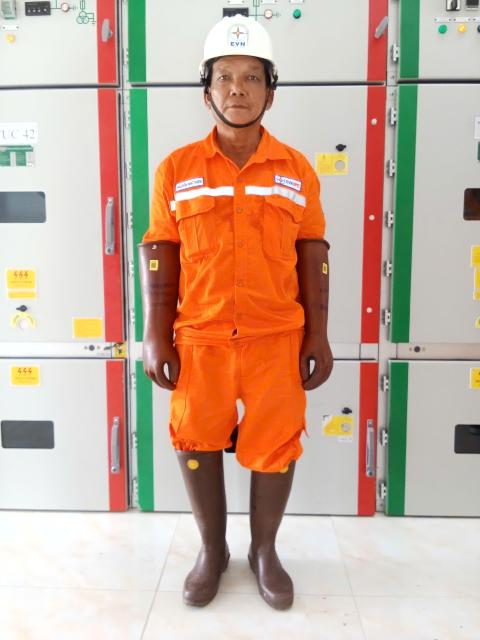gloves: (113, 227, 192, 386), (281, 231, 332, 395)
helmet: (193, 9, 292, 71)
shoes: (175, 438, 236, 610), (250, 457, 300, 610)
